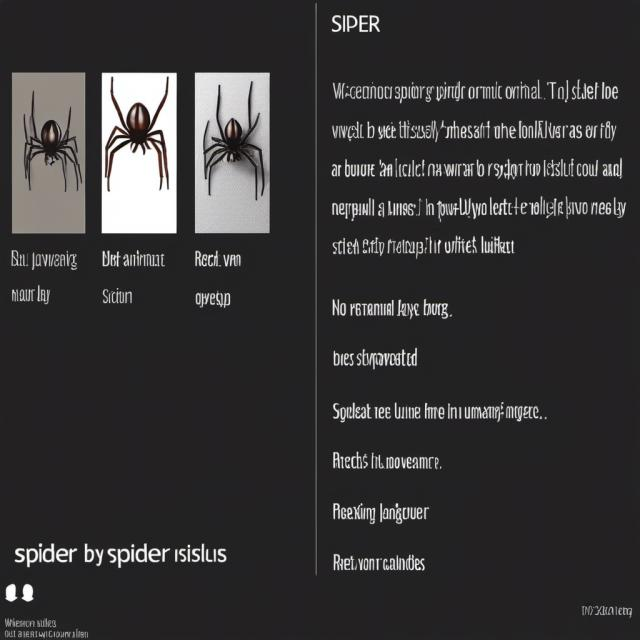spider: (16, 79, 85, 230), (198, 81, 269, 210), (101, 80, 175, 196)
